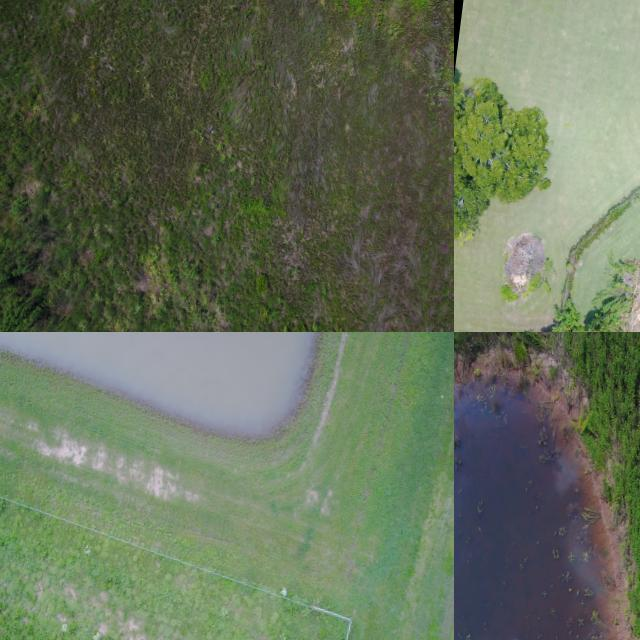fire: (454, 381, 610, 640), (0, 332, 316, 434)
